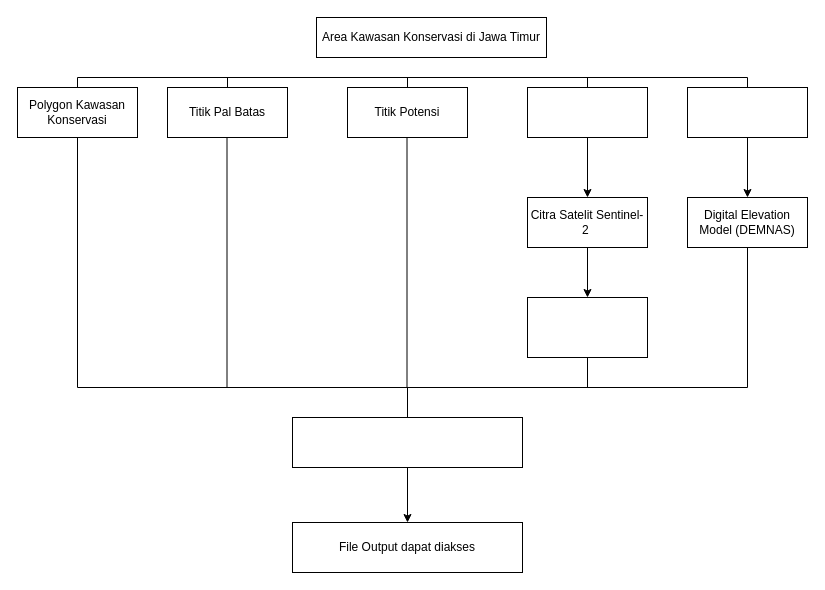
Image size: 825x590. Some labels were removed from this diagram. Each missing label, with the centre of its shape:
"Elevasi dan Kelerengan Tempat" goes at point (747, 112).
"Google Drive" goes at point (407, 442).
"NDVI & Interpretasi Tutupan Lahan" goes at point (587, 327).
"Tutupan Lahan" goes at point (587, 112).
